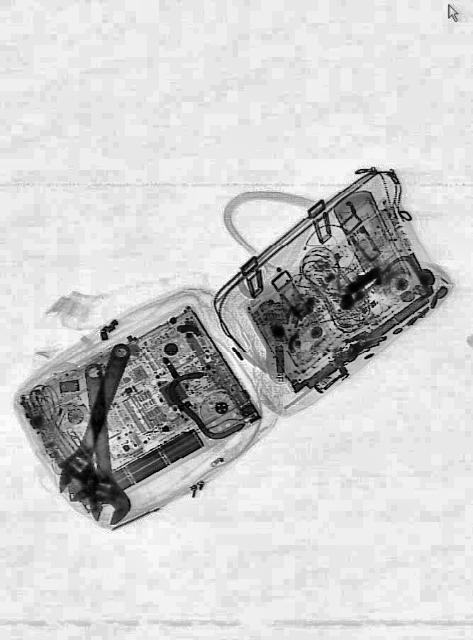Wrench: (50, 336, 144, 510), (69, 360, 133, 528)
